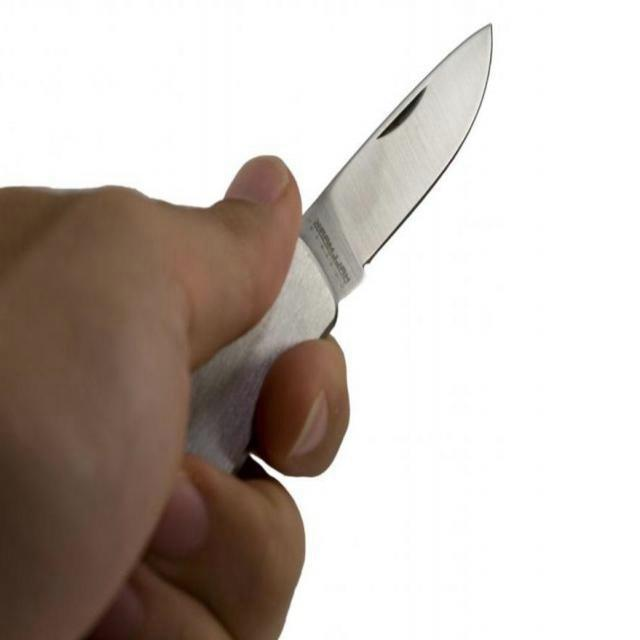Knife: (188, 25, 492, 470)
Knife_Handle: (0, 16, 530, 640)
